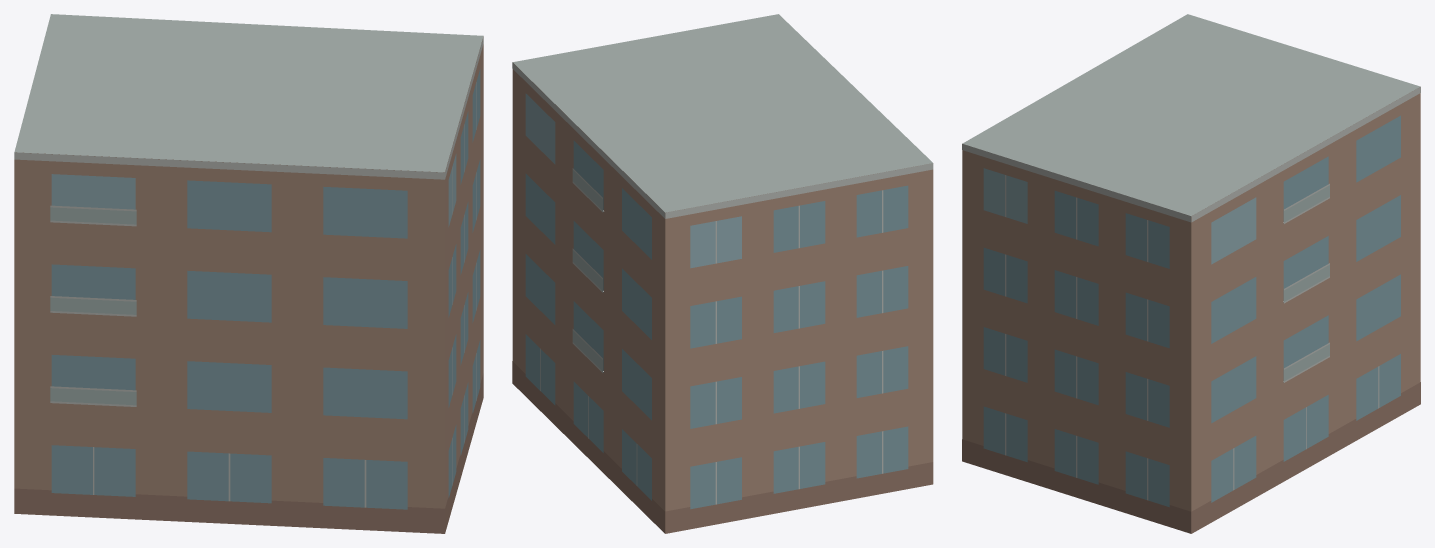
The model's file is survey-upis-32929757.glb.
3 views of the same model, side by side, from view 1: azimuth 30°, elevation 25°; view 2: azimuth 150°, elevation 25°; view 3: azimuth 270°, elevation 25° (orthographic). The views are drawn at different scales.
Visible parts, largest first — view 1: survey-upis-32929757.tmp; view 2: survey-upis-32929757.tmp; view 3: survey-upis-32929757.tmp.
Part boxes in pixels (<box>): survey-upis-32929757.tmp: <box>14,14,483,533</box>; survey-upis-32929757.tmp: <box>512,14,933,533</box>; survey-upis-32929757.tmp: <box>962,14,1420,533</box>.
Bounding box in the file's own units: 16.66 × 12.2 × 15.97.
